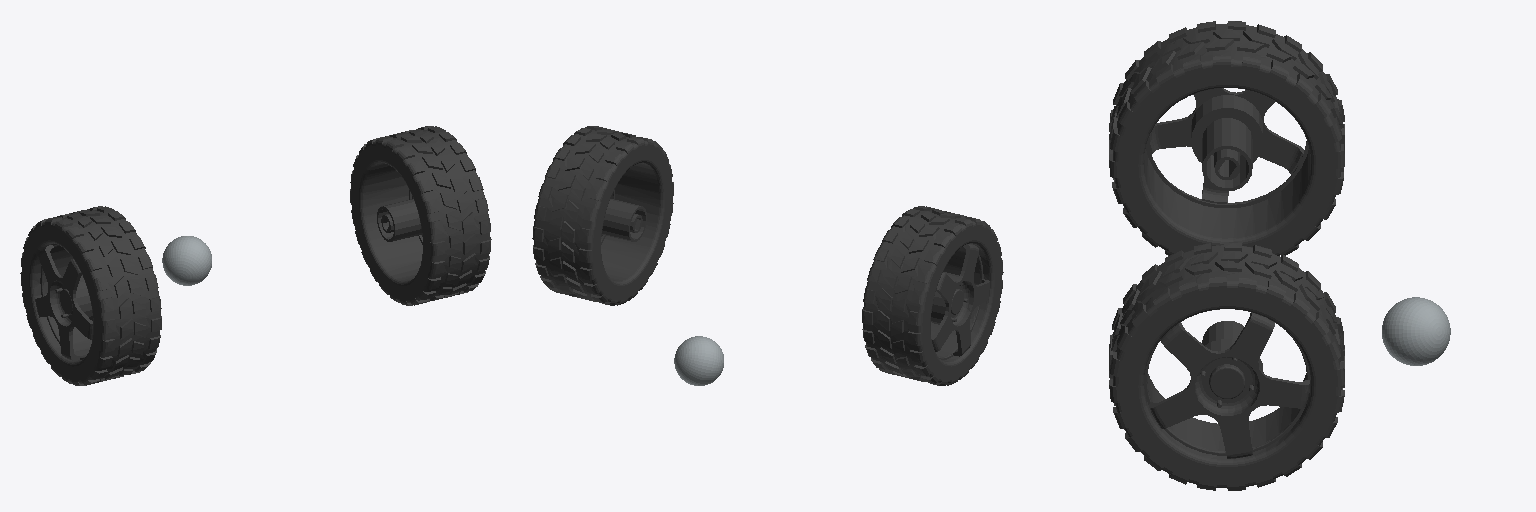
robot.urdf — MYMOBI:
<?xml version="1.0" encoding="utf-8"?>
<!-- This URDF was automatically created by SolidWorks to URDF Exporter! Originally created by [author] ([email redacted]) 
     Commit Version: 1.6.0-1-g15f4949  Build Version: 1.6.7594.29634
     For more information, please see http://wiki.ros.org/sw_urdf_exporter -->
<robot
  name="MYMOBI">
  <link
    name="base_link">
    <inertial>
      <origin
        xyz="-0.000540669794453349 0.00304620337803254 0.0482051615163406"
        rpy="0 0 0" />
      <mass
        value="0.196289115232373" />
      <inertia
        ixx="0.000121937292020445"
        ixy="-4.03631657525914E-08"
        ixz="-4.19170996555954E-09"
        iyy="0.000133131981812718"
        iyz="-5.40346437782221E-07"
        izz="0.000173108931361185" />
    </inertial>
    <visual>
      <origin
        xyz="0 0 0"
        rpy="0 0 0" />
      <geometry>
        <mesh
          filename="package://MYMOBI/meshes/base_link.STL" />
      </geometry>
      <material
        name="">
        <color
          rgba="0.792156862745098 0.819607843137255 0.933333333333333 1" />
      </material>
    </visual>
    <collision>
      <origin
        xyz="0 0 0"
        rpy="0 0 0" />
      <geometry>
        <mesh
          filename="package://MYMOBI/meshes/base_link.STL" />
      </geometry>
    </collision>
  </link>
  <link
    name="r_wheel">
    <inertial>
      <origin
        xyz="-0.00243997670358728 1.30704219192604E-07 2.5348140631847E-07"
        rpy="0 0 0" />
      <mass
        value="0.02973413929379" />
      <inertia
        ixx="2.0378833583153E-05"
        ixy="4.09034210666274E-11"
        ixz="7.97625788236576E-11"
        iyy="1.22912881284281E-05"
        iyz="-1.6026121487258E-10"
        izz="1.2291134962144E-05" />
    </inertial>
    <visual>
      <origin
        xyz="0 0 0"
        rpy="0 0 0" />
      <geometry>
        <mesh
          filename="package://MYMOBI/meshes/r_wheel.STL" />
      </geometry>
      <material
        name="">
        <color
          rgba="0.298039215686275 0.298039215686275 0.298039215686275 1" />
      </material>
    </visual>
    <collision>
      <origin
        xyz="0 0 0"
        rpy="0 0 0" />
      <geometry>
        <mesh
          filename="package://MYMOBI/meshes/r_wheel.STL" />
      </geometry>
    </collision>
  </link>
  <joint
    name="r_wheel_joint"
    type="continuous">
    <origin
      xyz="0.070359 0 0.015"
      rpy="1.5708 0 3.1416" />
    <parent
      link="base_link" />
    <child
      link="r_wheel" />
    <axis
      xyz="-1 0 0" />
    <limit
      effort="100"
      velocity="100" />
  </joint>
  <link
    name="l_wheel">
    <inertial>
      <origin
        xyz="0.00243997670358714 2.11240250985734E-10 -2.85195323052913E-07"
        rpy="0 0 0" />
      <mass
        value="0.029734139293791" />
      <inertia
        ixx="2.03788335831536E-05"
        ixy="1.33639528871799E-13"
        ixz="8.96389478573439E-11"
        iyy="1.22913864722038E-05"
        iyz="3.08092263833764E-11"
        izz="1.22910366183691E-05" />
    </inertial>
    <visual>
      <origin
        xyz="0 0 0"
        rpy="0 0 0" />
      <geometry>
        <mesh
          filename="package://MYMOBI/meshes/l_wheel.STL" />
      </geometry>
      <material
        name="">
        <color
          rgba="0.298039215686275 0.298039215686275 0.298039215686275 1" />
      </material>
    </visual>
    <collision>
      <origin
        xyz="0 0 0"
        rpy="0 0 0" />
      <geometry>
        <mesh
          filename="package://MYMOBI/meshes/l_wheel.STL" />
      </geometry>
    </collision>
  </link>
  <joint
    name="l_wheel_joint"
    type="continuous">
    <origin
      xyz="-0.070359 0 0.015"
      rpy="2.0461 0 -3.1416" />
    <parent
      link="base_link" />
    <child
      link="l_wheel" />
    <axis
      xyz="1 0 0" />
    <limit
      effort="100"
      velocity="100" />
  </joint>
  <link
    name="b_castor">
    <inertial>
      <origin
        xyz="-0.00272904725448559 -0.00258491327360974 -0.00706190657334837"
        rpy="0 0 0" />
      <mass
        value="0.0280126392142641" />
      <inertia
        ixx="1.01125627563493E-06"
        ixy="0"
        ixz="-1.32348898008484E-23"
        iyy="1.01125627563493E-06"
        iyz="3.30872245021211E-23"
        izz="1.01125627563493E-06" />
    </inertial>
    <visual>
      <origin
        xyz="0 0 0"
        rpy="0 0 0" />
      <geometry>
        <mesh
          filename="package://MYMOBI/meshes/b_castor.STL" />
      </geometry>
      <material
        name="">
        <color
          rgba="0.63921568627451 0.666666666666667 0.67843137254902 1" />
      </material>
    </visual>
    <collision>
      <origin
        xyz="0 0 0"
        rpy="0 0 0" />
      <geometry>
        <mesh
          filename="package://MYMOBI/meshes/b_castor.STL" />
      </geometry>
    </collision>
  </link>
  <joint
    name="b_castor_joint"
    type="continuous">
    <origin
      xyz="0 -0.052 0"
      rpy="0.35089 -0.34812 -0.91974" />
    <parent
      link="base_link" />
    <child
      link="b_castor" />
    <axis
      xyz="0.34113 0.32311 0.88274" />
  </joint>
  <link
    name="f_castor">
    <inertial>
      <origin
        xyz="-0.0027290472544856 -0.00258491327360973 -0.00706190657334837"
        rpy="0 0 0" />
      <mass
        value="0.0280126392142641" />
      <inertia
        ixx="1.01125627563493E-06"
        ixy="0"
        ixz="-1.32348898008484E-23"
        iyy="1.01125627563493E-06"
        iyz="3.30872245021211E-23"
        izz="1.01125627563493E-06" />
    </inertial>
    <visual>
      <origin
        xyz="0 0 0"
        rpy="0 0 0" />
      <geometry>
        <mesh
          filename="package://MYMOBI/meshes/f_castor.STL" />
      </geometry>
      <material
        name="">
        <color
          rgba="0.63921568627451 0.666666666666667 0.67843137254902 1" />
      </material>
    </visual>
    <collision>
      <origin
        xyz="0 0 0"
        rpy="0 0 0" />
      <geometry>
        <mesh
          filename="package://MYMOBI/meshes/f_castor.STL" />
      </geometry>
    </collision>
  </link>
  <joint
    name="f_castor_joint"
    type="continuous">
    <origin
      xyz="0 0.052 0"
      rpy="0.35089 -0.34812 -0.91974" />
    <parent
      link="base_link" />
    <child
      link="f_castor" />
    <axis
      xyz="0.34113 0.32311 0.88274" />
  </joint>
</robot>

--- Render facts (derived) ---
3 views of the same robot in one strip: view 1: azimuth 30°, elevation 25°; view 2: azimuth 150°, elevation 25°; view 3: azimuth 270°, elevation 25° (orthographic).
Robot: MYMOBI — 5 links, 4 joints (4 continuous); root link base_link; default pose: all joints at 0.
Visible links, largest first — view 1: l_wheel, r_wheel, f_castor; view 2: l_wheel, r_wheel, f_castor; view 3: r_wheel, l_wheel, f_castor.
Link boxes in pixels (x1,y1,x2,y2): l_wheel: (20, 206, 161, 385); r_wheel: (350, 126, 491, 305); f_castor: (162, 236, 211, 285); l_wheel: (862, 206, 1003, 385); r_wheel: (532, 126, 673, 305); f_castor: (674, 336, 723, 385); r_wheel: (1109, 242, 1344, 490); l_wheel: (1109, 21, 1344, 255); f_castor: (1382, 297, 1450, 365).
Bounding box of the posed robot: 0.1702 × 0.094 × 0.065 m (x, y, z).
Meshes: 5 distinct files referenced, 3 mesh visuals loaded (3 binary STL); not drawn: 2 (reference not matched to a file when rendering).
